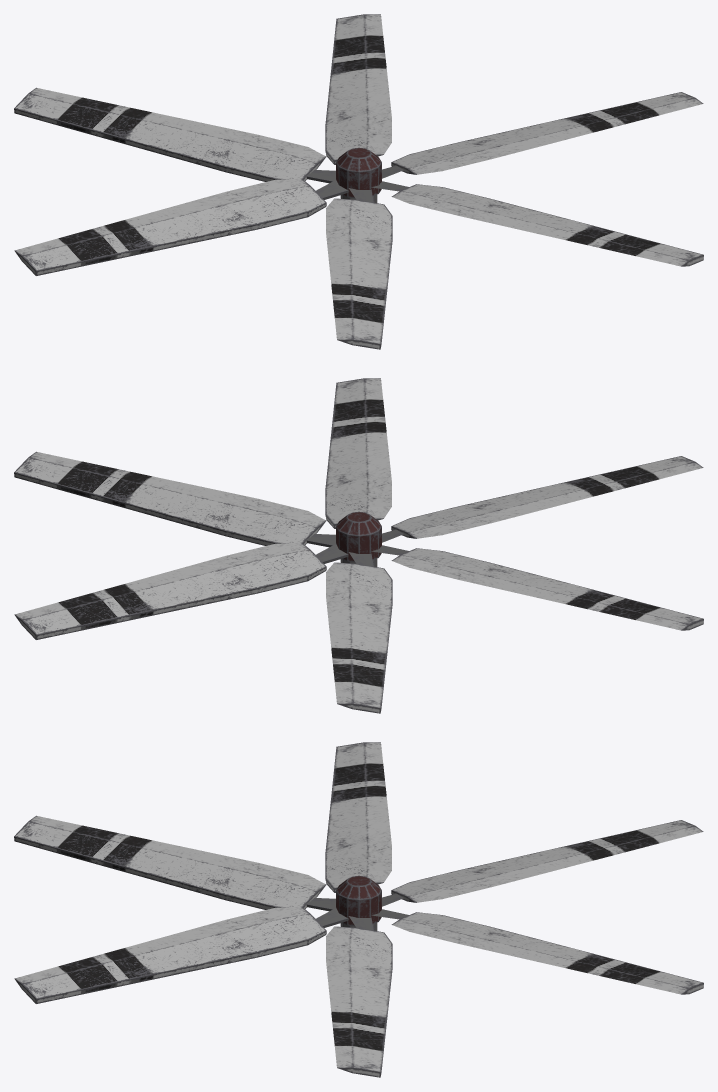
Rendered from propeller_m_1.fbx.
The picture shows the model from 3 angles, top to bottom: view 1: azimuth 30°, elevation 25°; view 2: azimuth 150°, elevation 25°; view 3: azimuth 270°, elevation 25°; orthographic projection.
Parts seen in each view (by area): view 1: propeller_m_1; view 2: propeller_m_1; view 3: propeller_m_1.
Part boxes in pixels (x1,y1,x2,y2): propeller_m_1: [14, 14, 703, 349]; propeller_m_1: [14, 378, 703, 713]; propeller_m_1: [14, 742, 703, 1077].
Size of the model in its own units: 19.66 by 3.59 by 17.6.
